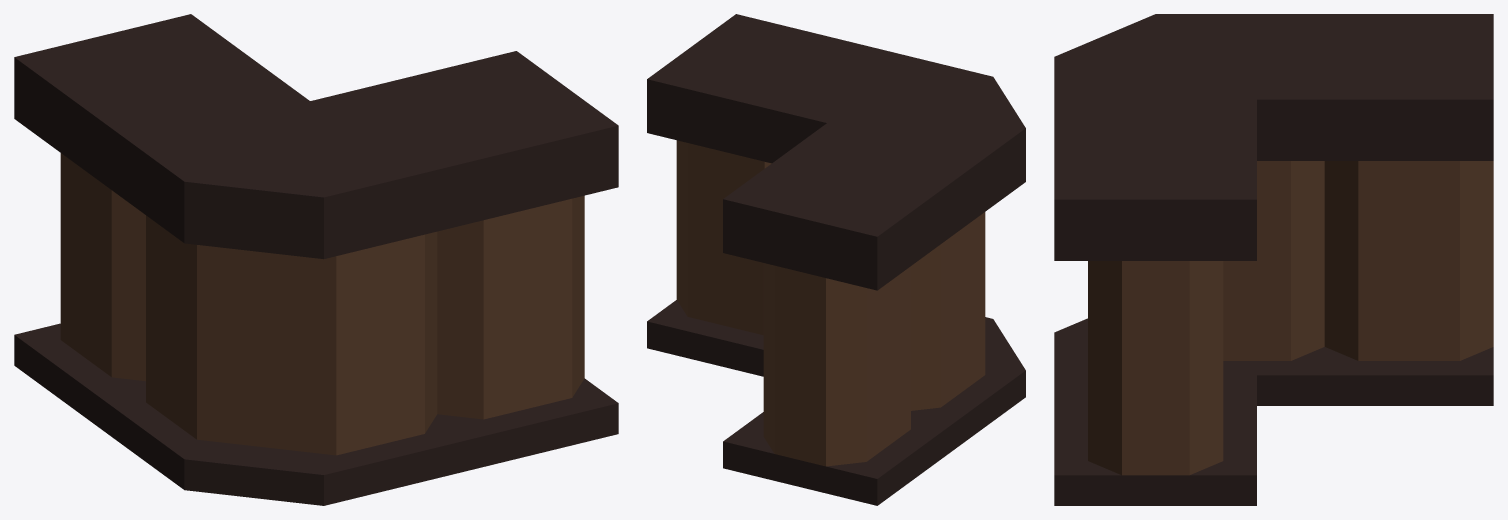
The model's file is WoodenStand_Corner.fbx.
3 renders of one model, left to right at view 1: azimuth 30°, elevation 25°; view 2: azimuth 150°, elevation 25°; view 3: azimuth 270°, elevation 25°, orthographic. The views are drawn at different scales.
Visible parts, largest first — view 1: WoodenStand.Corner; view 2: WoodenStand.Corner; view 3: WoodenStand.Corner.
Part boxes in pixels (x1,y1,x2,y2): WoodenStand.Corner: [14, 14, 618, 505]; WoodenStand.Corner: [647, 14, 1025, 505]; WoodenStand.Corner: [1054, 14, 1493, 505].
Bounding box in the file's own units: 130 × 100 × 130.
